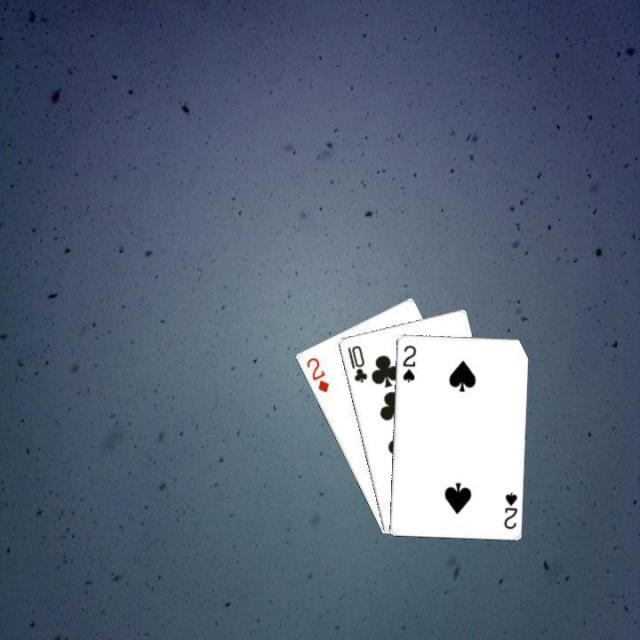10C: (343, 341, 369, 384)
2D: (302, 354, 331, 394)
2S: (398, 341, 418, 384), (500, 488, 519, 531)
